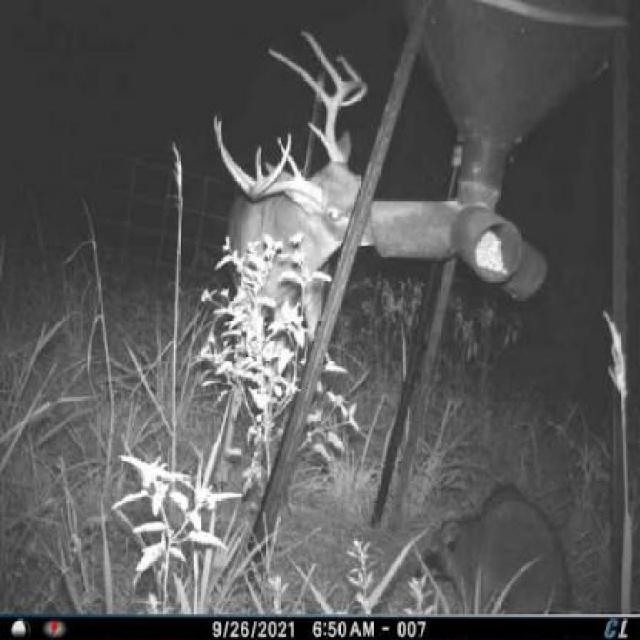Deer: (198, 17, 382, 458)
